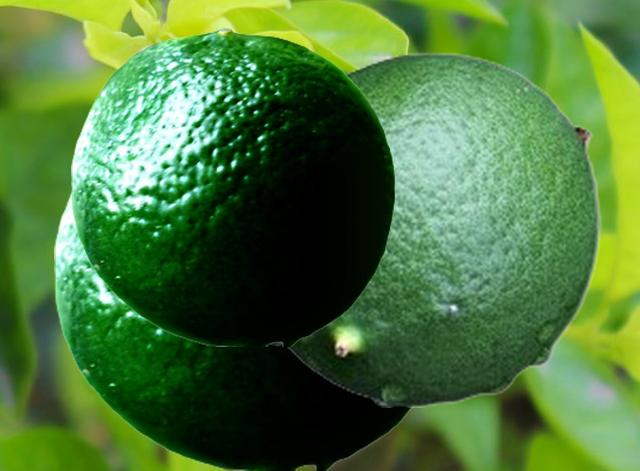calamansi: (267, 51, 600, 406), (71, 27, 394, 345), (54, 187, 415, 469)
